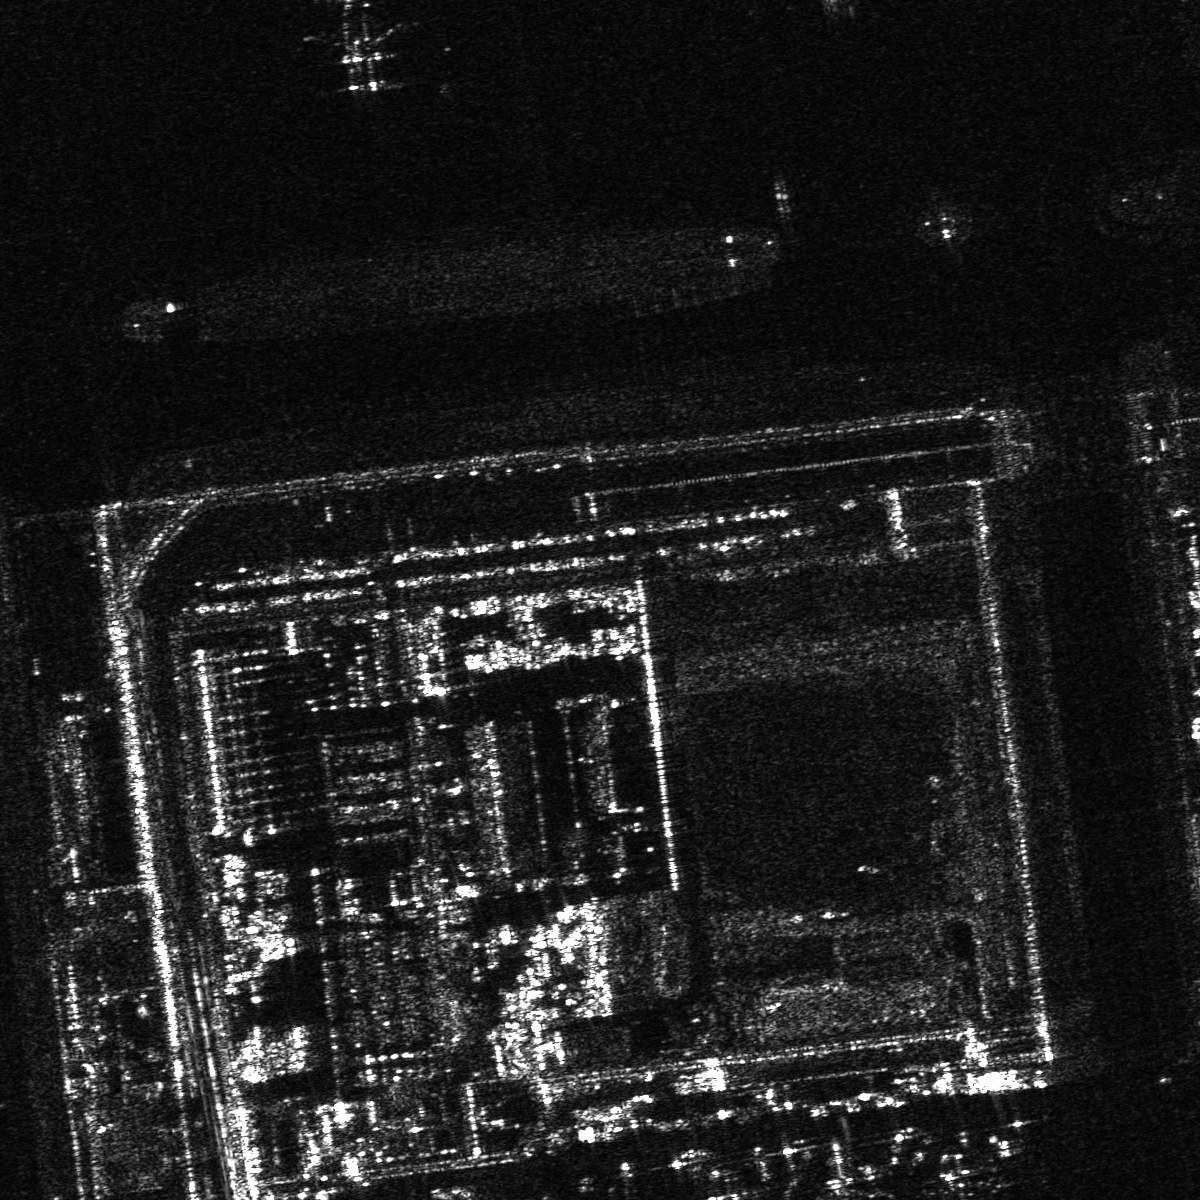A330: (305, 1, 405, 69), (919, 199, 968, 244)
Boeing787: (926, 1138, 991, 1199)
